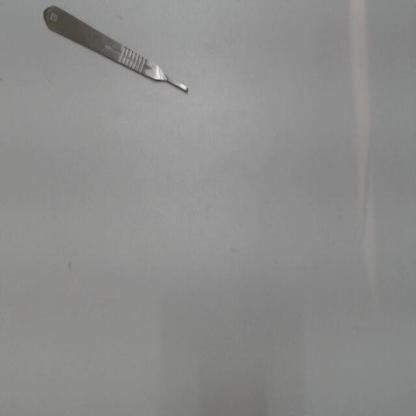No.3 BP Handle: (36, 4, 191, 104)
